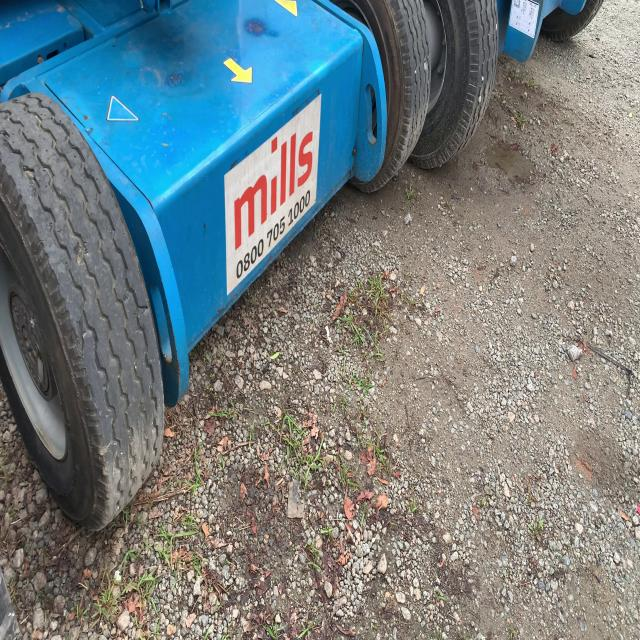Adesivos: (223, 91, 322, 299)
